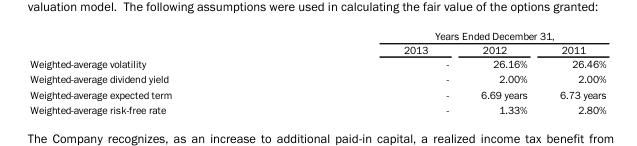table: (29, 28, 605, 114)
table column: (29, 28, 287, 114), (287, 28, 464, 114), (464, 28, 542, 114), (542, 28, 605, 114)
table column header: (29, 28, 605, 56)
table row: (29, 56, 605, 71), (29, 71, 605, 86), (29, 86, 605, 101), (29, 28, 605, 42), (29, 42, 605, 56), (29, 101, 605, 114)
table spanning cell: (287, 28, 605, 42)
